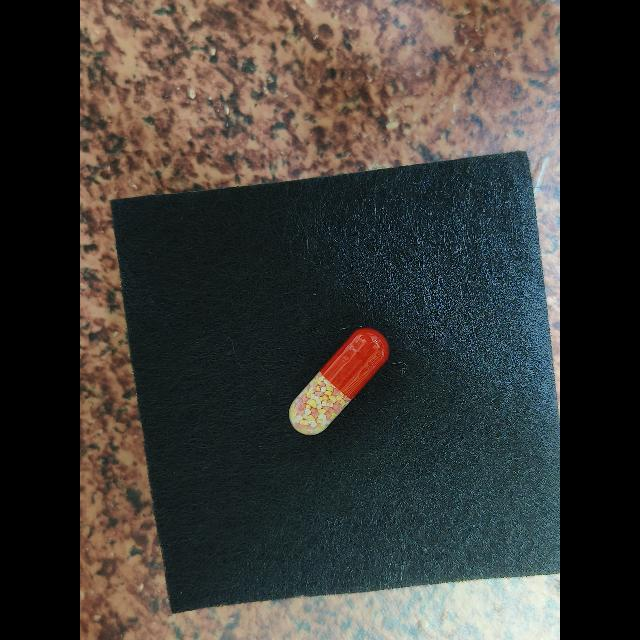Intact Capsule: (289, 328, 390, 435)
